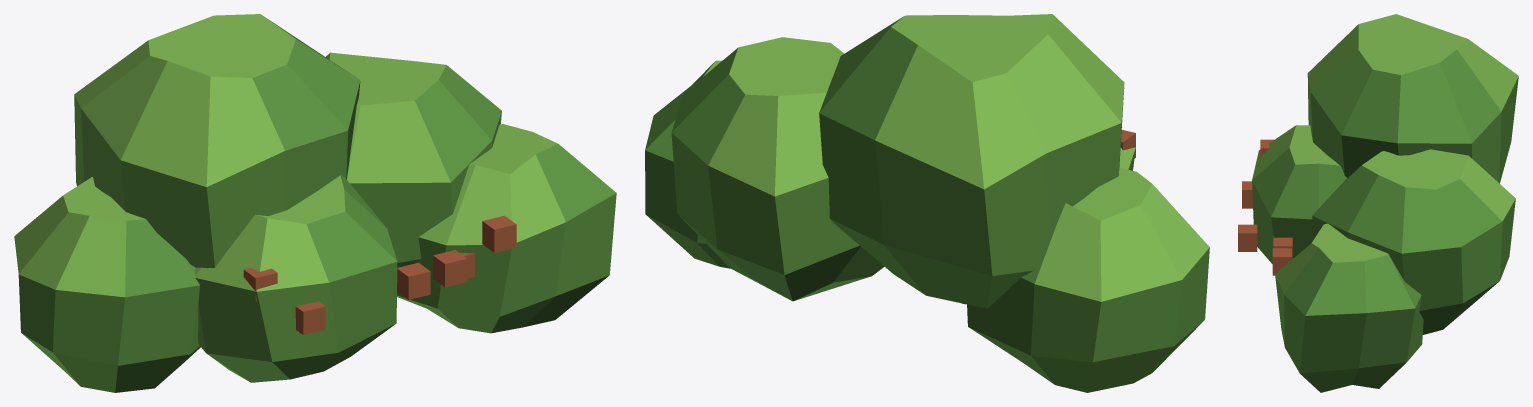
Rendered from fg-bush-right.glb.
3 renders of one model, left to right at view 1: azimuth 30°, elevation 25°; view 2: azimuth 150°, elevation 25°; view 3: azimuth 270°, elevation 25°, orthographic. The views are drawn at different scales.
Parts seen in each view (by area): view 1: Bramble.001, Bramble, Bramble.004, Bramble.003, Bramble.002, Berry, Berry.002, Berry.003, Berry.004, Berry.005; view 2: Bramble.001, Bramble.002, Bramble, Bramble.003; view 3: Bramble.001, Bramble.002, Bramble.003, Bramble.004, Berry.002, Berry, Berry.004.
Boxes of the visible parts, left/top/right/bottom form: Bramble.001: left=74, top=14, right=360, bottom=268; Bramble: left=14, top=176, right=200, bottom=392; Bramble.004: left=195, top=175, right=397, bottom=382; Bramble.003: left=397, top=124, right=616, bottom=333; Bramble.002: left=326, top=52, right=501, bottom=267; Berry: left=433, top=250, right=467, bottom=287; Berry.002: left=482, top=215, right=516, bottom=252; Berry.003: left=397, top=262, right=430, bottom=299; Berry.004: left=295, top=301, right=325, bottom=334; Berry.005: left=243, top=268, right=277, bottom=301; Bramble.001: left=819, top=14, right=1124, bottom=308; Bramble.002: left=671, top=37, right=884, bottom=301; Bramble: left=967, top=167, right=1209, bottom=392; Bramble.003: left=645, top=60, right=730, bottom=268; Bramble.001: left=1307, top=14, right=1518, bottom=183; Bramble.002: left=1312, top=149, right=1515, bottom=334; Bramble.003: left=1275, top=223, right=1423, bottom=392; Bramble.004: left=1252, top=125, right=1347, bottom=263; Berry.002: left=1238, top=224, right=1257, bottom=251; Berry: left=1272, top=248, right=1291, bottom=275; Berry.004: left=1242, top=181, right=1252, bottom=208.
Size of the model in its own units: 1.91 by 1.06 by 1.1.
